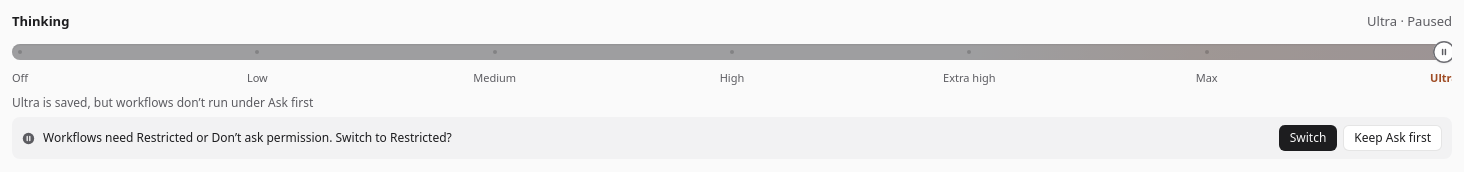
Test: the Ultra stop › lets the user keep Ask first, and stays saved
Step 1. Click the button "Keep Ask first" → (1393, 138), box x1=1343 y1=125 x2=1442 y2=151
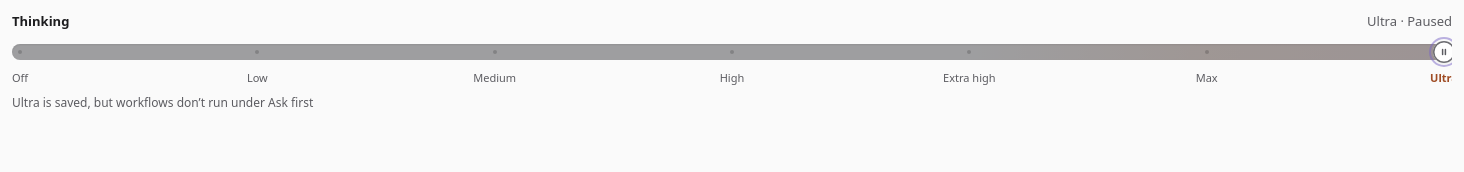
Now the text "Switch" is gone
